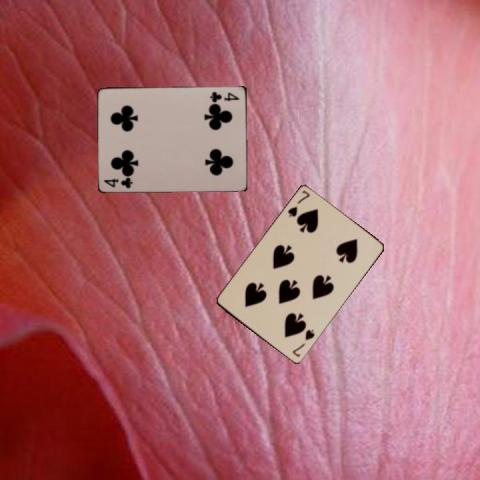4c: (101, 174, 134, 189), (206, 88, 241, 102)
7s: (289, 326, 316, 358), (285, 188, 311, 219)
